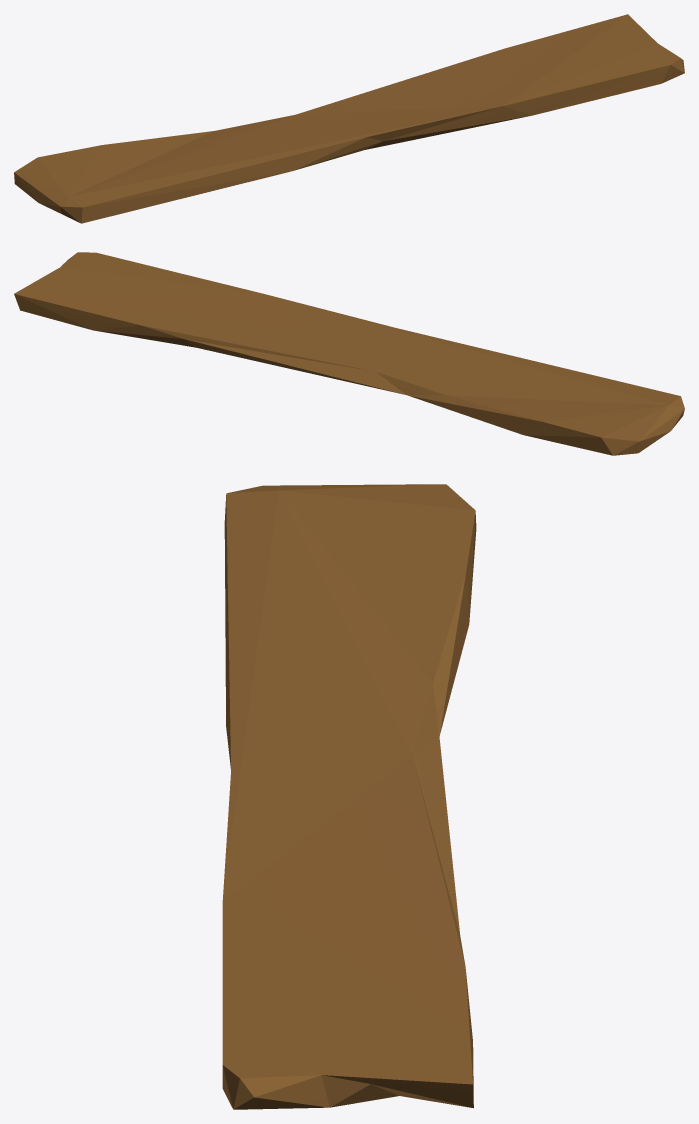
The model's file is Board_02.fbx.
The picture shows the model from 3 angles, top to bottom: view 1: azimuth 30°, elevation 25°; view 2: azimuth 150°, elevation 25°; view 3: azimuth 270°, elevation 25°; orthographic projection. The views are drawn at different scales.
Visible parts, largest first — view 1: Board_02; view 2: Board_02; view 3: Board_02.
Boxes of the visible parts, x1=… form: Board_02: x1=14, y1=14, x2=684, y2=223; Board_02: x1=14, y1=252, x2=684, y2=455; Board_02: x1=222, y1=484, x2=476, y2=1109.
Size of the model in its own units: 182 by 5.48 by 32.17.
